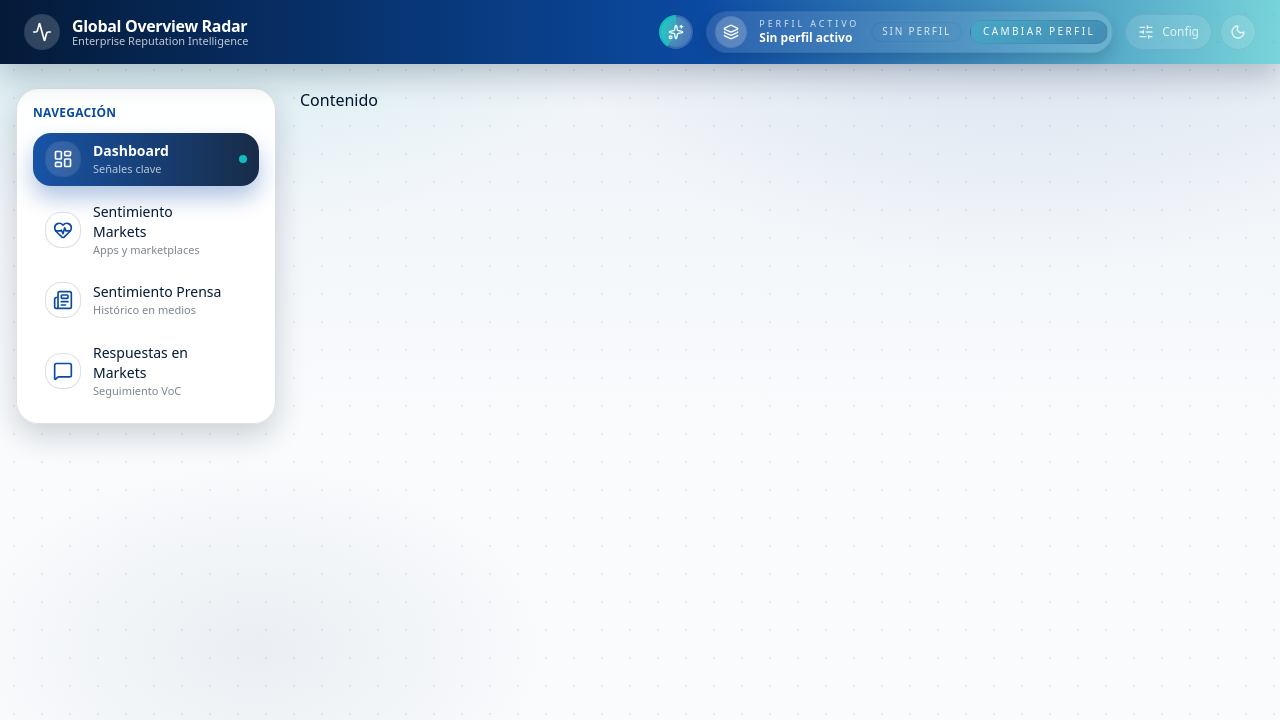
it: Shell settings and ingest › restores ingest progress after remounting the shell
The width and height of the screenshot is (1280, 720).
Click the button named "Centro de ingestas".
click(676, 32)  # box [658, 14, 694, 50]
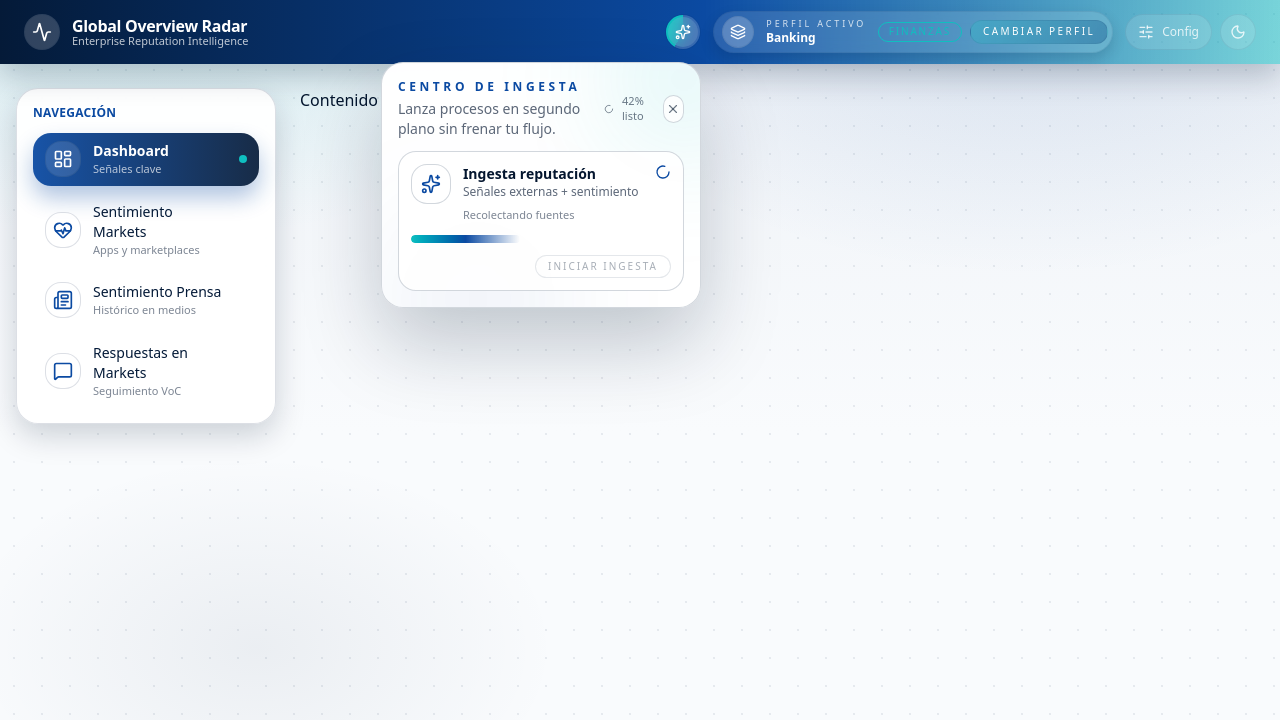
Result: the text "42% listo" is shown at [604, 93, 644, 123]
